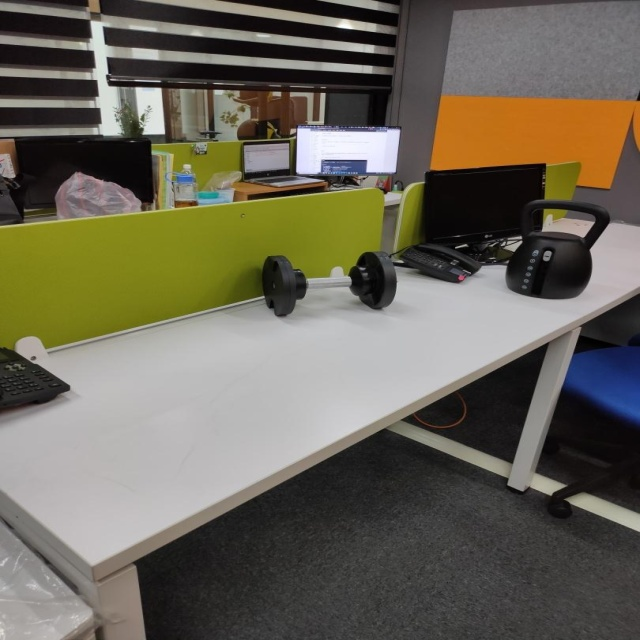03-6kg: (261, 251, 398, 317)
